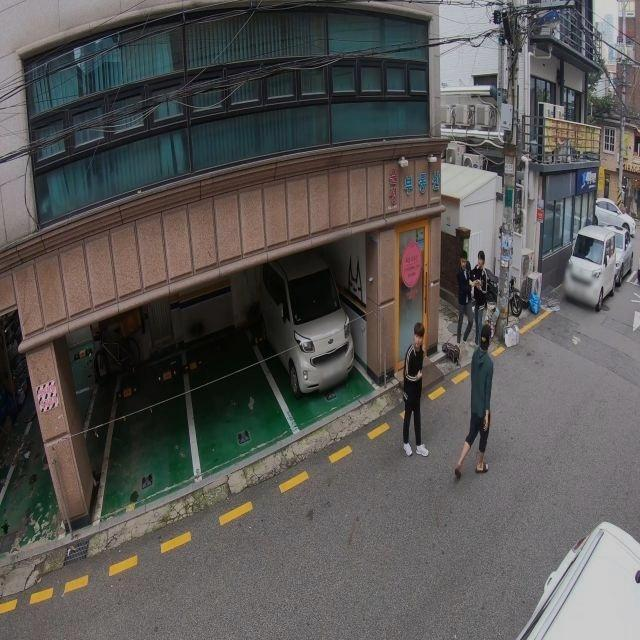fight: (455, 249, 493, 346)
non-fight: (455, 323, 495, 481), (399, 319, 430, 458)
